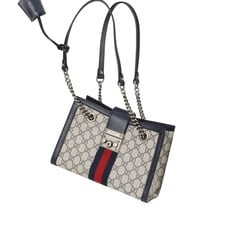Gucci: (56, 78, 177, 205), (94, 115, 128, 185), (118, 145, 146, 189)
